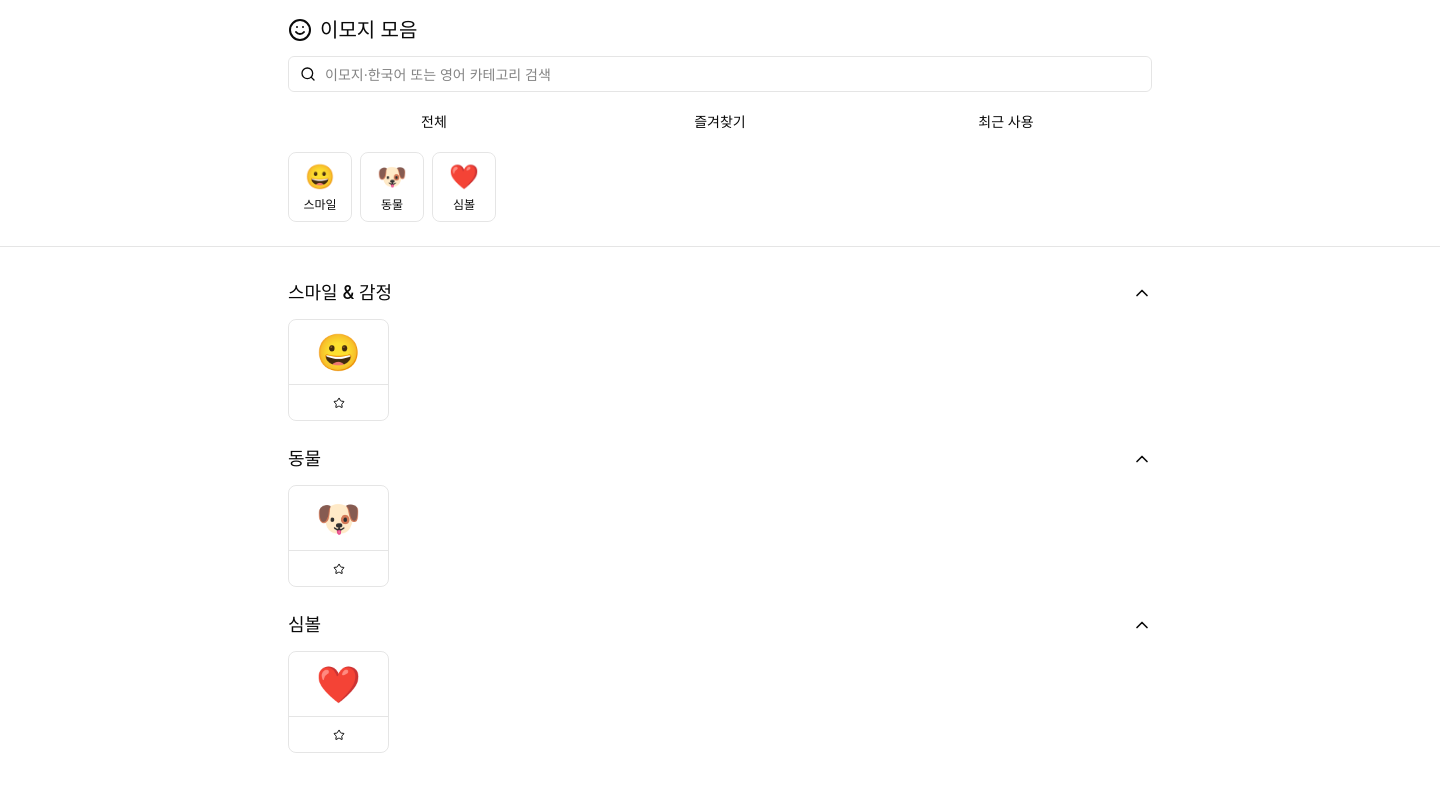
Scenario: emoji user journeys and persisted state boundaries › searches English category aliases case-insensitively
Type "ANIMAL" into the field.
click(720, 74); type("ANIMAL")  # box x1=288 y1=56 x2=1152 y2=92
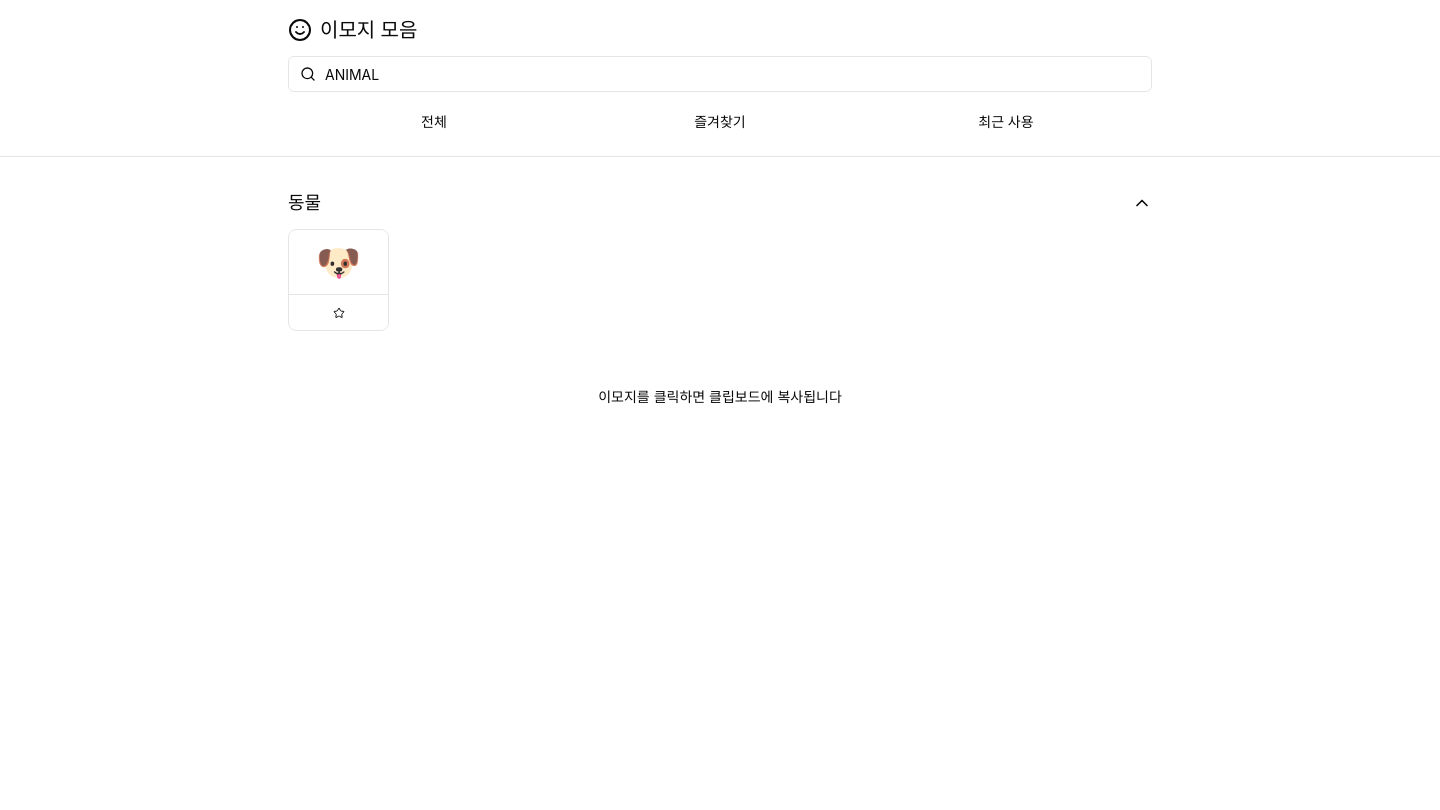
Expected: the button "🐶" is shown, x1=289 y1=230 x2=388 y2=294
Expected: the button "😀" is gone
